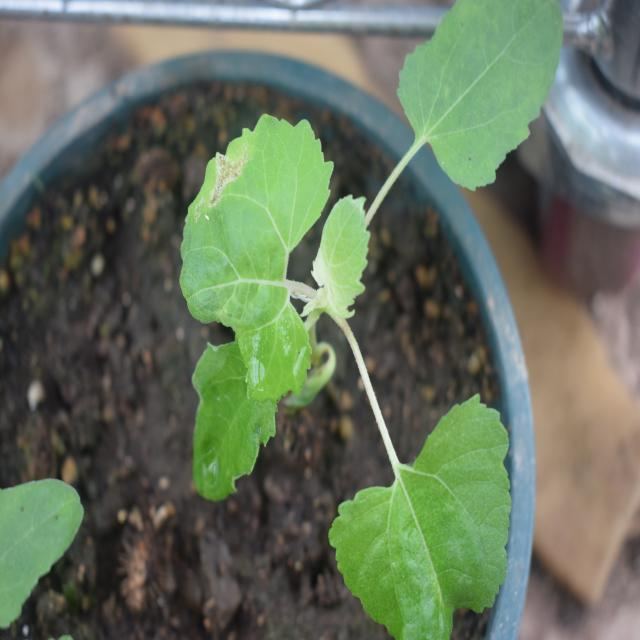cocklebur: (182, 7, 568, 622)
